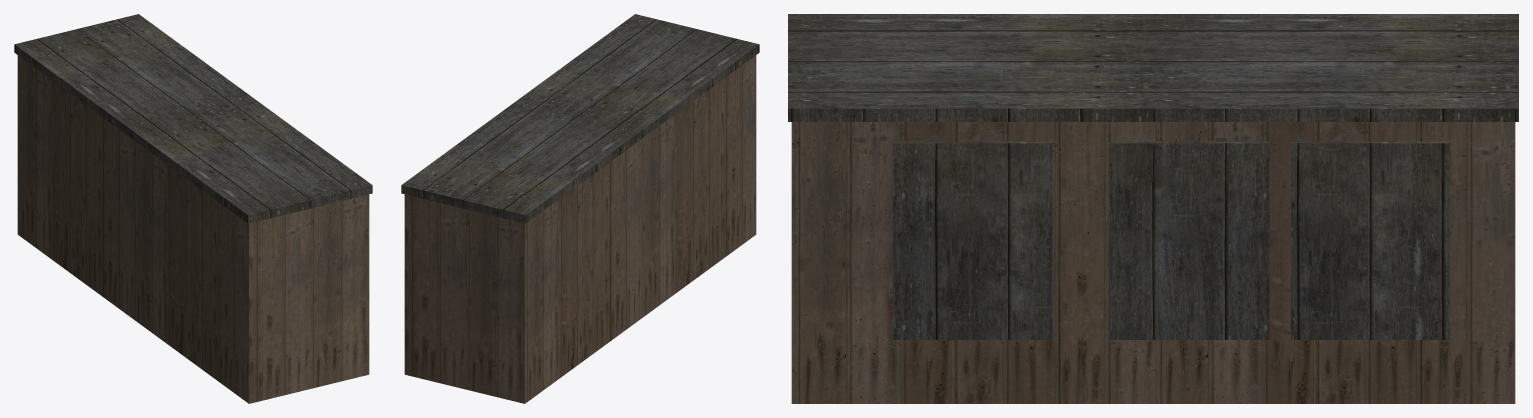
The model's file is counter.glb.
The picture shows the model from 3 angles, left to right: view 1: azimuth 30°, elevation 25°; view 2: azimuth 150°, elevation 25°; view 3: azimuth 270°, elevation 25°; orthographic projection. The views are drawn at different scales.
Visible parts, largest first — view 1: counter; view 2: counter; view 3: counter.
Part boxes in pixels (left/top/right/bottom): counter: left=14, top=14, right=372, bottom=403; counter: left=401, top=14, right=759, bottom=403; counter: left=788, top=14, right=1518, bottom=403.
Bounding box in the file's own units: 0.62 × 0.905 × 2.02.
3 materials, 2 textured.
